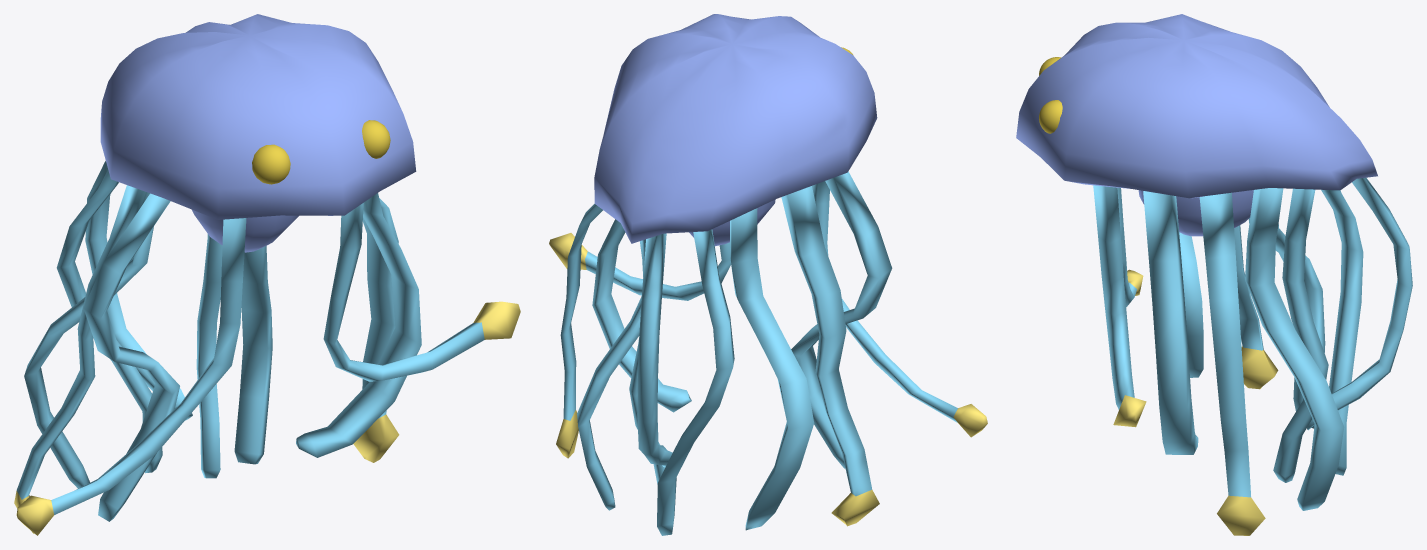
Rendered from jellyEnemy.fbx.
The picture shows the model from 3 angles, left to right: view 1: azimuth 30°, elevation 25°; view 2: azimuth 150°, elevation 25°; view 3: azimuth 270°, elevation 25°; orthographic projection. The views are drawn at different scales.
Visible parts, largest first — view 1: body, eyes; view 2: body; view 3: body, eyes.
Part boxes in pixels (x1,y1,x2,y2): body: (14,14,520,535); eyes: (252,120,390,184); body: (549,14,987,535); body: (1016,14,1412,535); eyes: (1039,57,1062,133).
Bounding box in the file's own units: 153 × 146 × 119.
